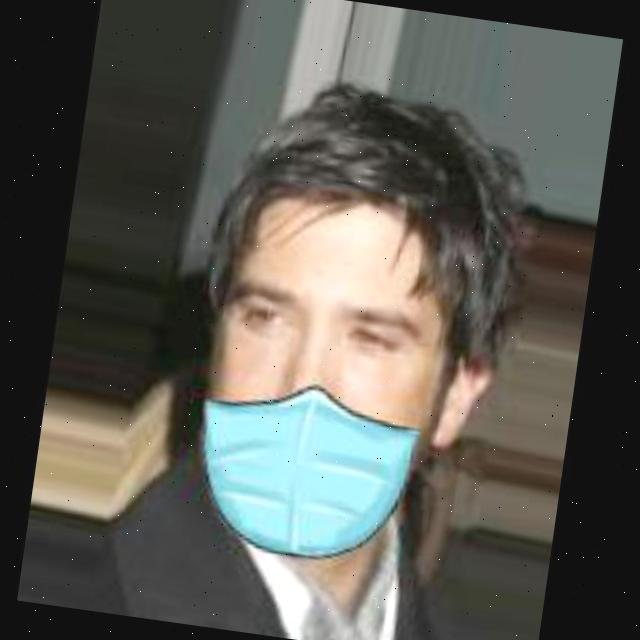suspicion: (74, 77, 529, 584)
